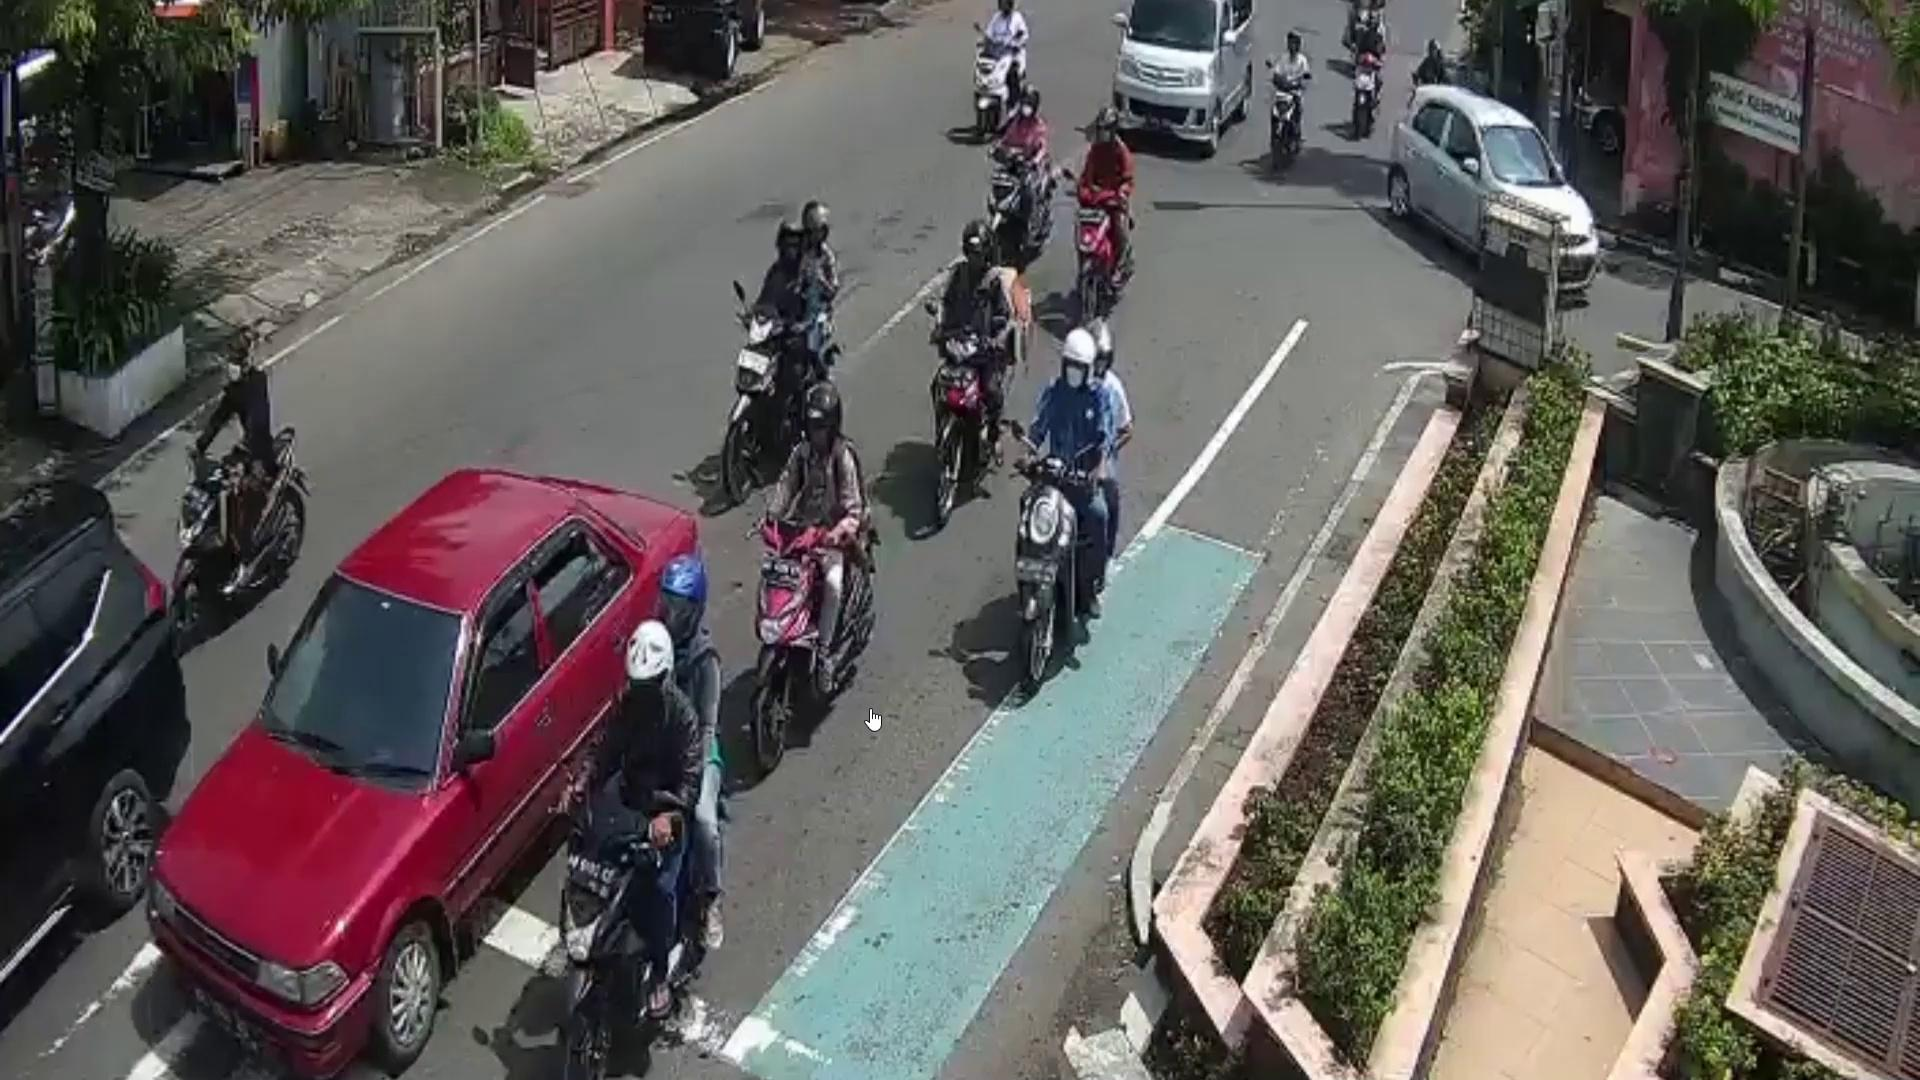car: (145, 467, 699, 1076), (1386, 82, 1598, 314), (1110, 1, 1258, 158)
motorbike: (560, 803, 695, 1080), (749, 504, 877, 778), (177, 436, 303, 628), (728, 301, 837, 505), (1019, 447, 1081, 694), (927, 315, 994, 524), (1065, 182, 1129, 324), (971, 30, 1039, 137), (978, 133, 1033, 265), (1266, 74, 1302, 181)
